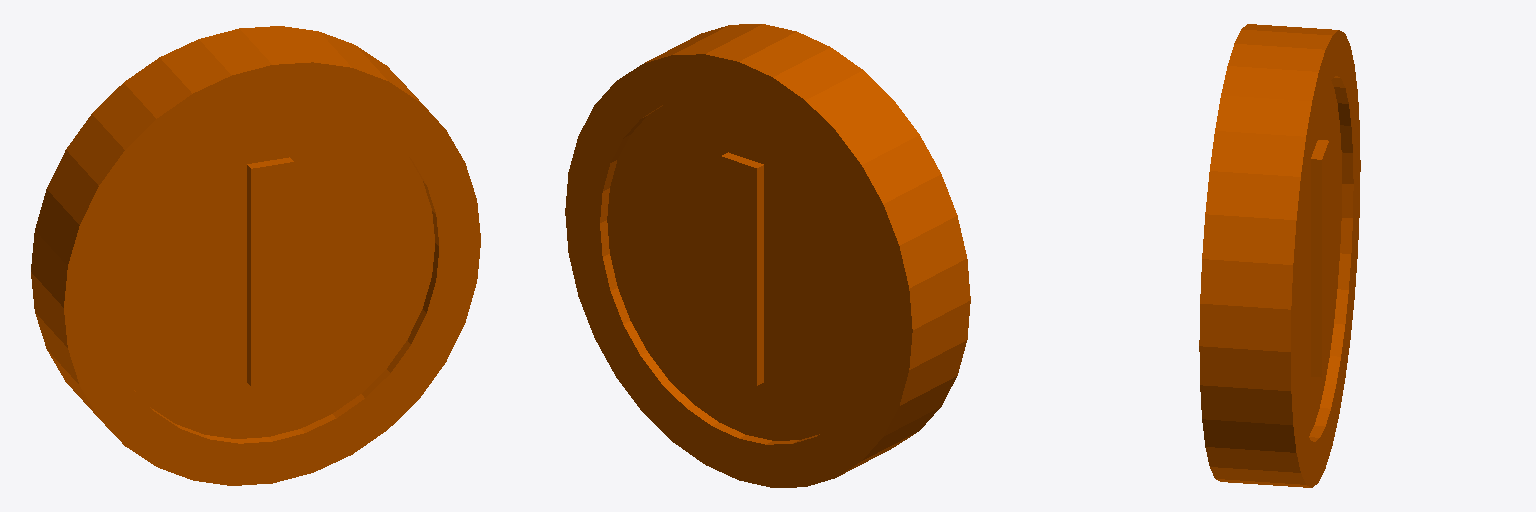
Rendered from coin.obj.
3 views of the same model, side by side, from view 1: azimuth 30°, elevation 25°; view 2: azimuth 150°, elevation 25°; view 3: azimuth 270°, elevation 25° (orthographic).
Visible parts, largest first — view 1: CoinObj_Coin_0; view 2: CoinObj_Coin_0; view 3: CoinObj_Coin_0.
Part boxes in pixels (left/top/right/bottom): CoinObj_Coin_0: left=31, top=26, right=480, bottom=485; CoinObj_Coin_0: left=565, top=24, right=970, bottom=487; CoinObj_Coin_0: left=1199, top=24, right=1360, bottom=487.
Bounding box in the file's own units: 4.37 × 4.43 × 1.55.